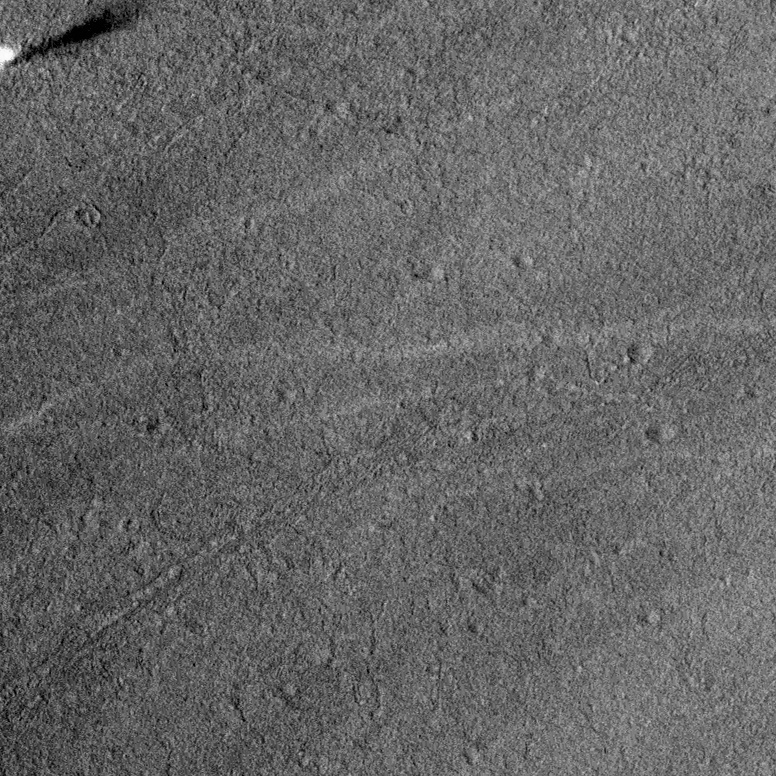dust_devil: (1, 6, 140, 70)
